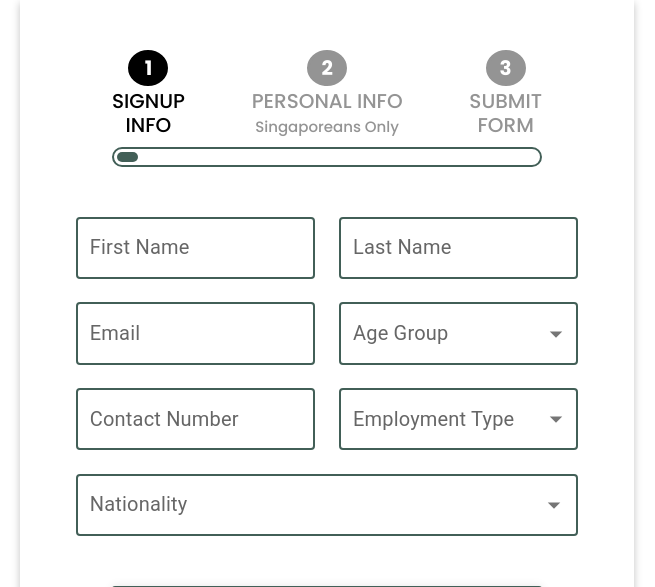
Test case: Join Form › Last name validation to show error when invalid last name entered
Expected: the text "*Only letters, -, . and ' are allowed" is not shown
Type "123123" into the field labelled "Last Name" at (459,248), box [339, 217, 578, 279]
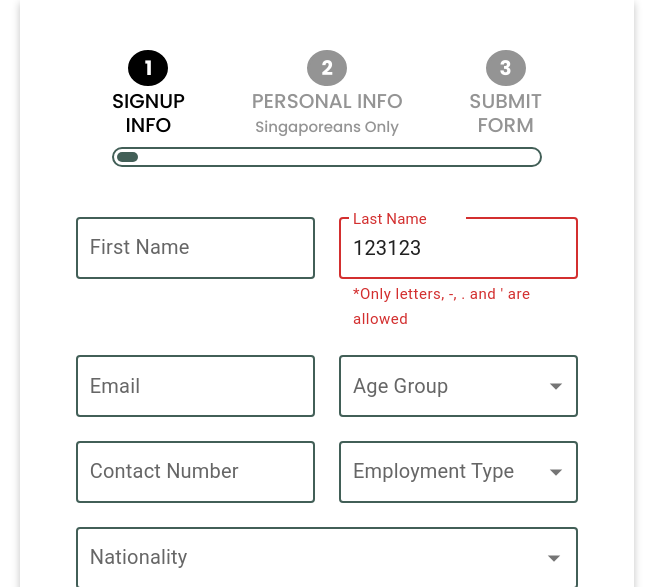
Now the text "*Only letters, -, . and ' are allowed" is shown, box [353, 285, 530, 328]
